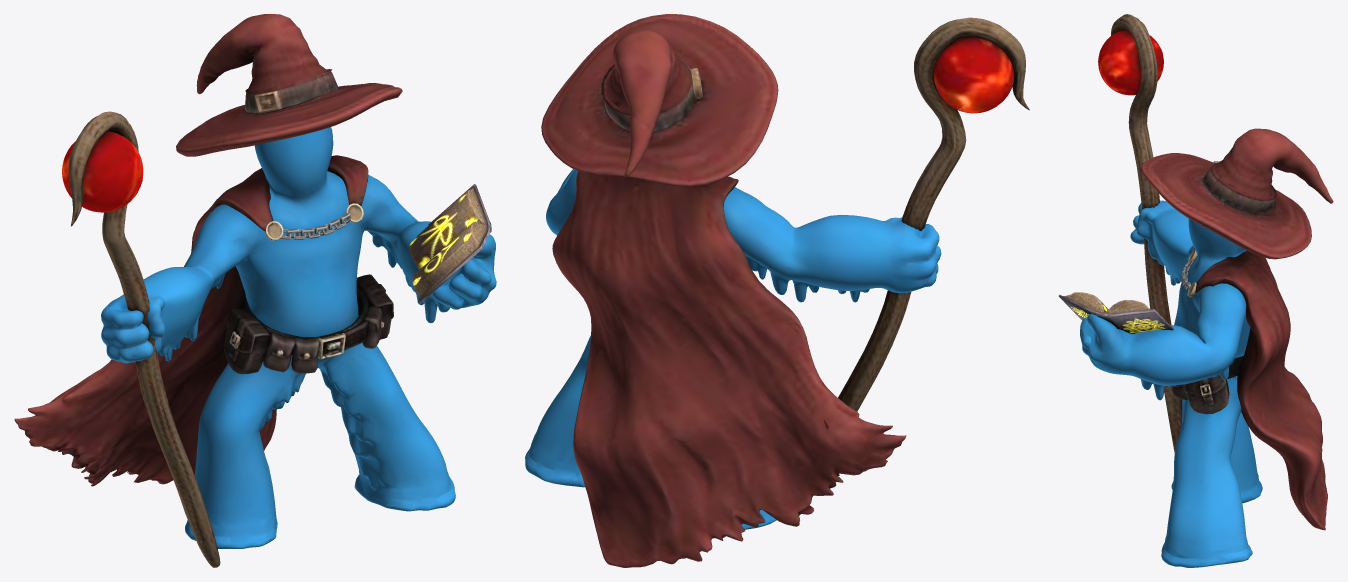
Rendered from MZ4250 - Plasmoid Wizard_2.glb.
3 renders of one model, left to right at view 1: azimuth 30°, elevation 25°; view 2: azimuth 150°, elevation 25°; view 3: azimuth 270°, elevation 25°, orthographic. The views are drawn at different scales.
Visible parts, largest first — view 1: ORGANIC BASE SPHERE.002; view 2: ORGANIC BASE SPHERE.002; view 3: ORGANIC BASE SPHERE.002.
Part boxes in pixels (x1=…): ORGANIC BASE SPHERE.002: x1=14, y1=14, x2=496, y2=567; ORGANIC BASE SPHERE.002: x1=525, y1=14, x2=1029, y2=567; ORGANIC BASE SPHERE.002: x1=1058, y1=14, x2=1333, y2=567.
Size of the model in its own units: 78.32 by 89.06 by 53.19.
Materials: 5 (5 with a texture image).
